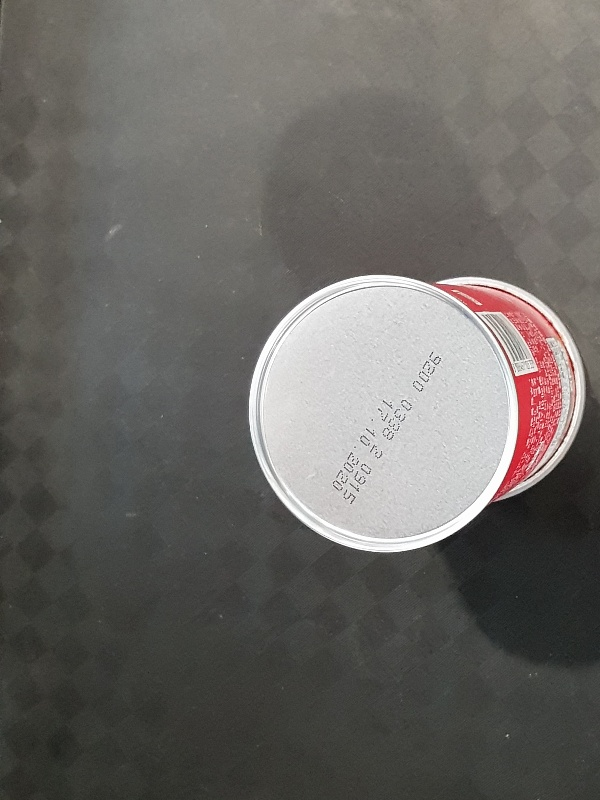Pringles Original: (243, 270, 586, 553)
